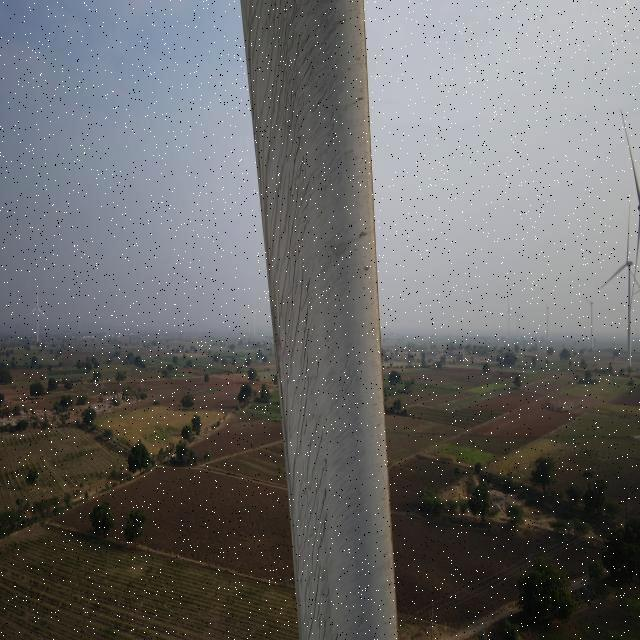Dirt: (240, 0, 401, 640)
